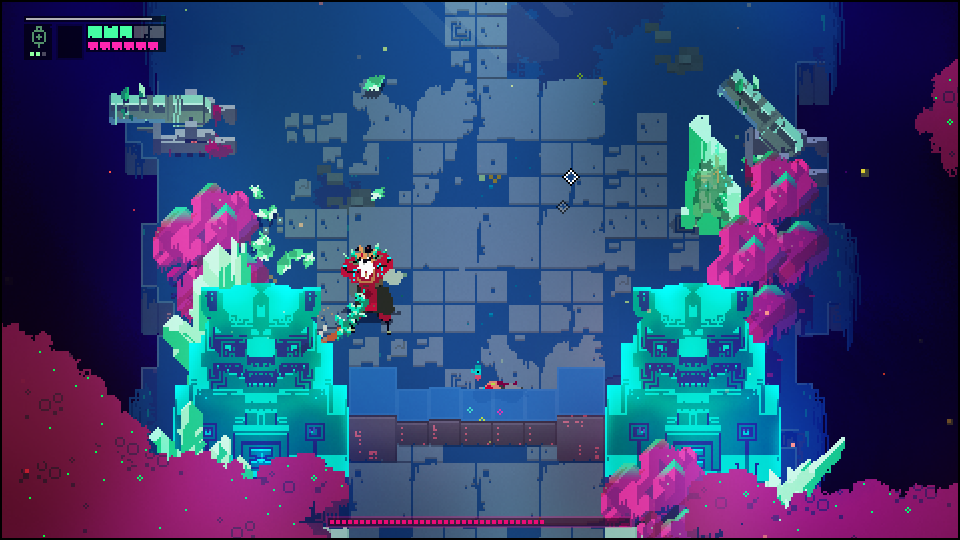hanged_man: (321, 238, 404, 346)
